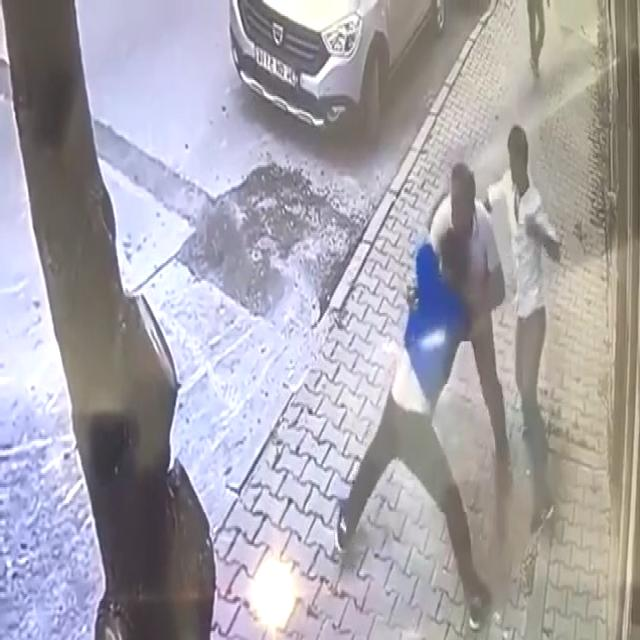fight: (316, 117, 574, 616)
